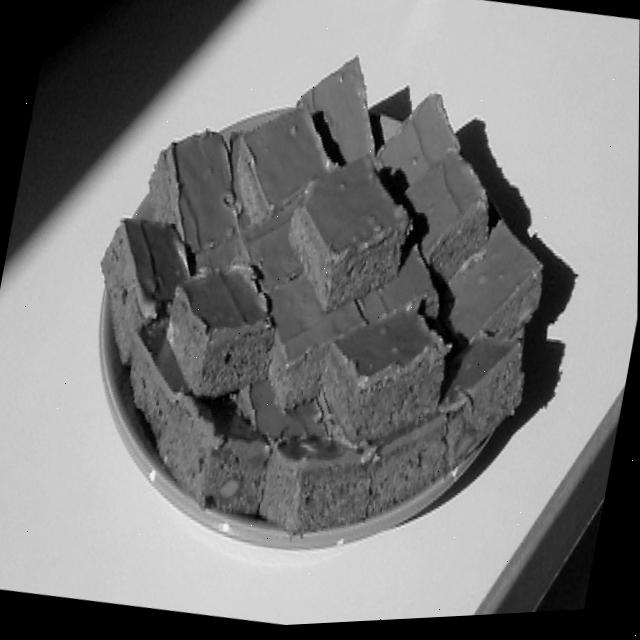蛋糕甜品: (42, 5, 605, 595)
